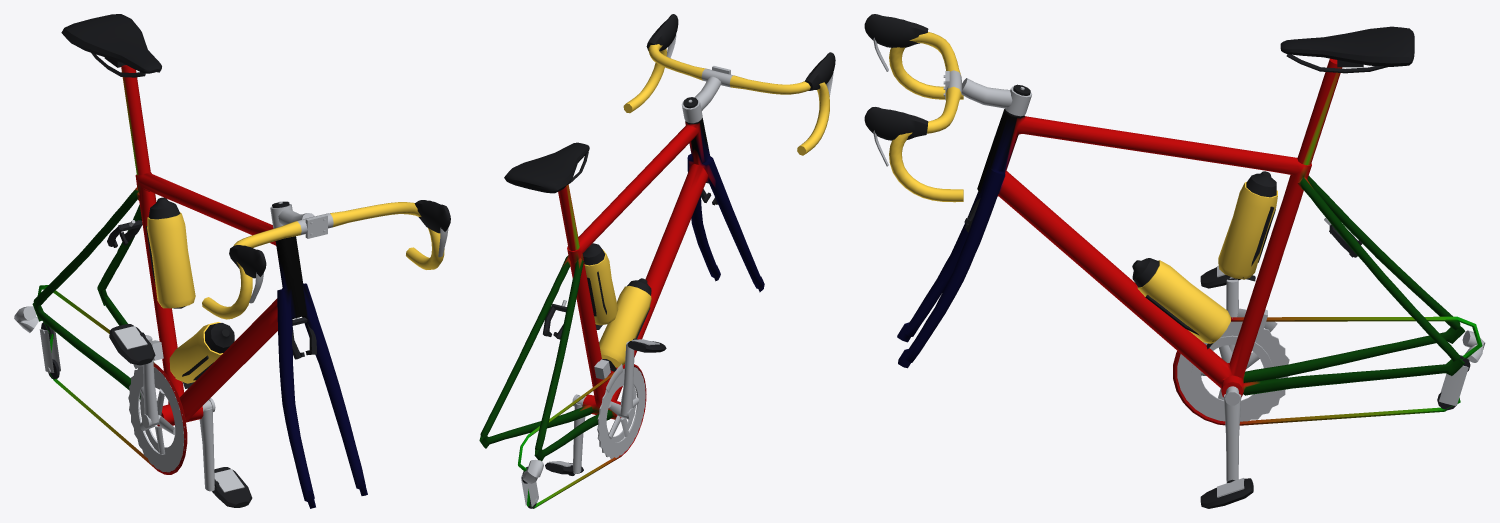
File: retro_compact.glb
3 views of the same model, side by side, from view 1: azimuth 30°, elevation 25°; view 2: azimuth 150°, elevation 25°; view 3: azimuth 270°, elevation 25° (orthographic). The views are drawn at different scales.
Parts seen in each view (by area): view 1: frame, cockpit, opt_bottles, crankset, saddle, opt_derailleur, pedal_R, pedal_L, opt_brakes_rim; view 2: frame, cockpit, opt_bottles, crankset, saddle, opt_derailleur, opt_brakes_rim, pedal_R; view 3: frame, cockpit, opt_bottles, crankset, saddle, opt_derailleur, pedal_L.
Part boxes in pixels (x1,y1,x2,y2): frame: (32,65,367,508); cockpit: (202,200,450,319); opt_bottles: (146,197,234,388); crankset: (128,335,215,491); saddle: (61,14,161,77); opt_derailleur: (14,306,163,379); pedal_R: (109,324,155,365); pedal_L: (212,467,252,507); opt_brakes_rim: (107,220,316,359); frame: (479,117,764,508); cockpit: (623,14,835,155); opt_bottles: (582,243,651,371); crankset: (572,341,646,473); saddle: (504,142,589,193); opt_derailleur: (521,359,622,508); opt_brakes_rim: (543,181,718,339); pedal_R: (627,338,666,352); frame: (897,58,1482,425); cockpit: (864,14,1032,202); opt_bottles: (1132,171,1277,349); crankset: (1177,279,1289,482); saddle: (1280,26,1414,73); opt_derailleur: (1237,308,1485,410); pedal_L: (1200,478,1253,508).
Bounding box in the file's own units: 0.4648 × 0.8869 × 1.13.
